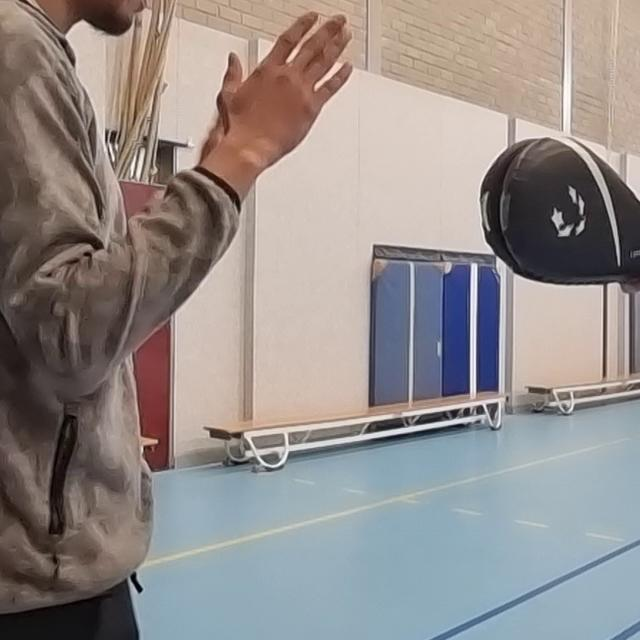paddle: (475, 130, 640, 294)
